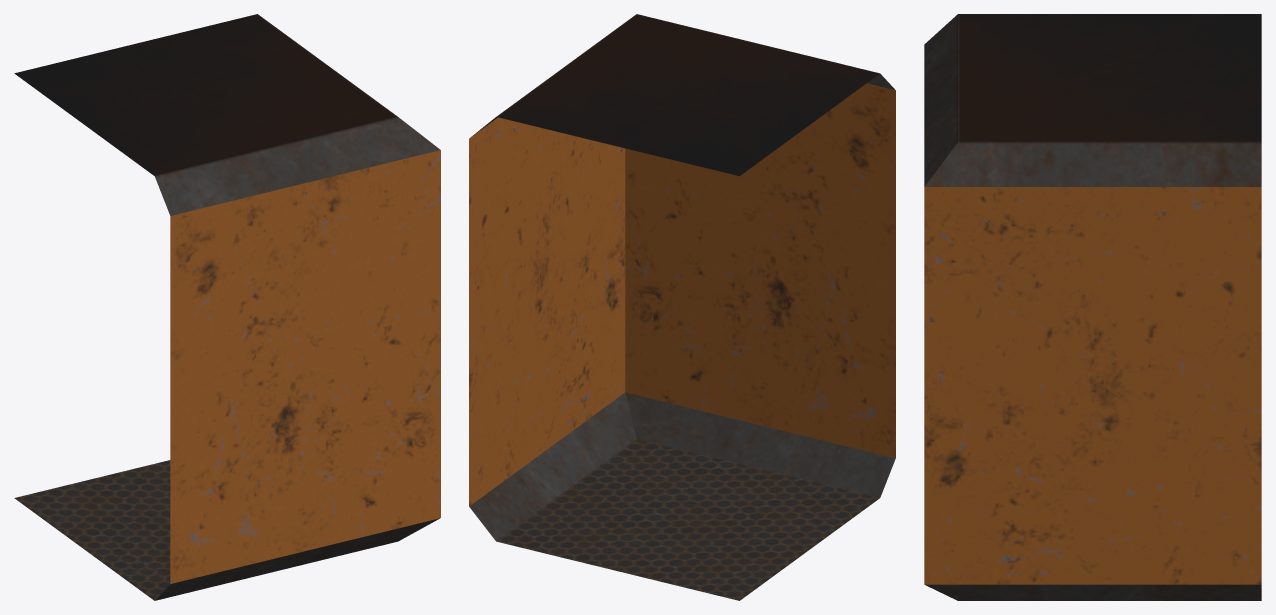
File: RoomCorner.fbx
The picture shows the model from 3 angles, left to right: view 1: azimuth 30°, elevation 25°; view 2: azimuth 150°, elevation 25°; view 3: azimuth 270°, elevation 25°; orthographic projection. The views are drawn at different scales.
Parts seen in each view (by area): view 1: RoomCorner; view 2: RoomCorner; view 3: RoomCorner.
Part boxes in pixels (bbox=[...]): RoomCorner: bbox=[14, 14, 440, 600]; RoomCorner: bbox=[469, 14, 895, 600]; RoomCorner: bbox=[924, 14, 1261, 600].
Bounding box in the file's own units: 200 × 300 × 200.
Materials: 1 (1 with a texture image).
